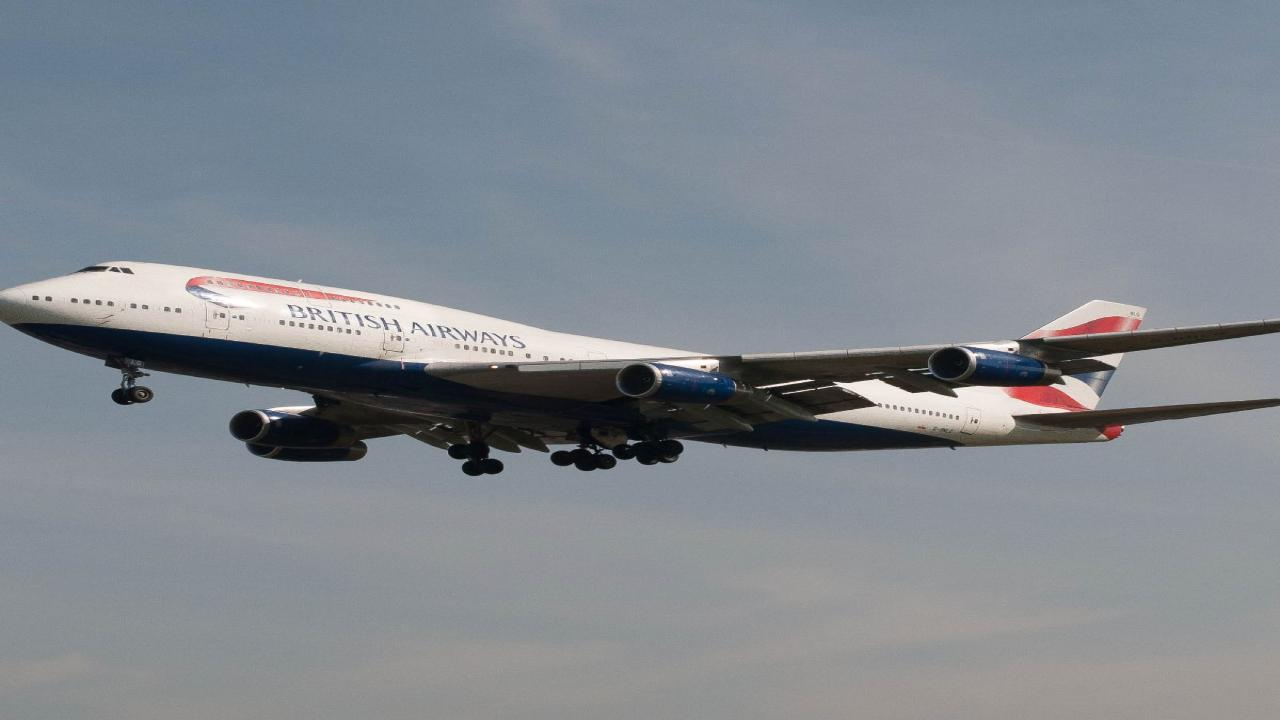Airplane: (0, 250, 1280, 484)
